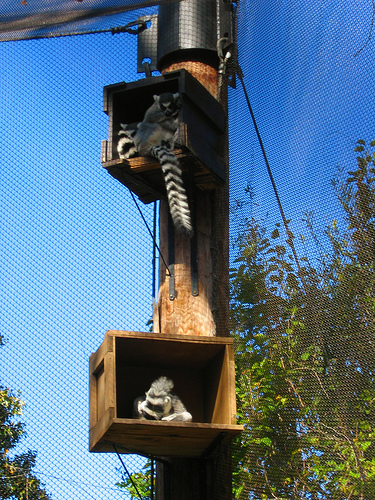cat: (131, 92, 191, 232), (135, 377, 192, 426)
